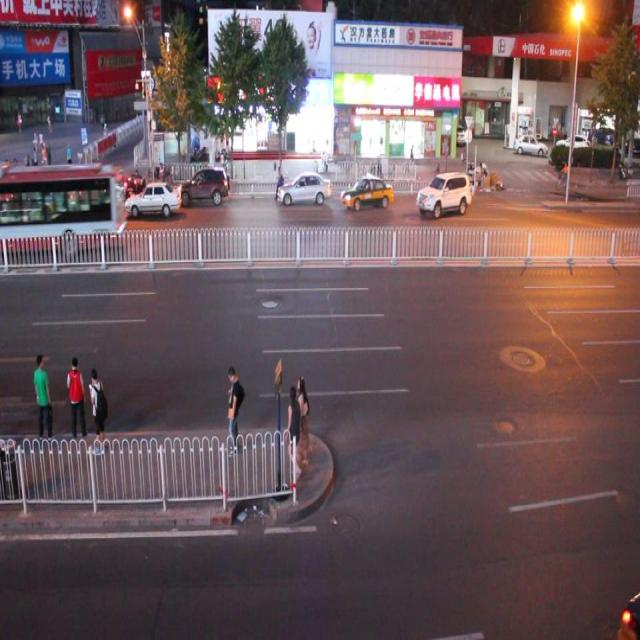car: (416, 172, 469, 216), (277, 169, 330, 206), (178, 167, 229, 204), (128, 182, 182, 216), (341, 175, 392, 210), (27, 177, 70, 212), (103, 172, 134, 207), (1, 172, 16, 208)
van: (1, 162, 126, 252)
